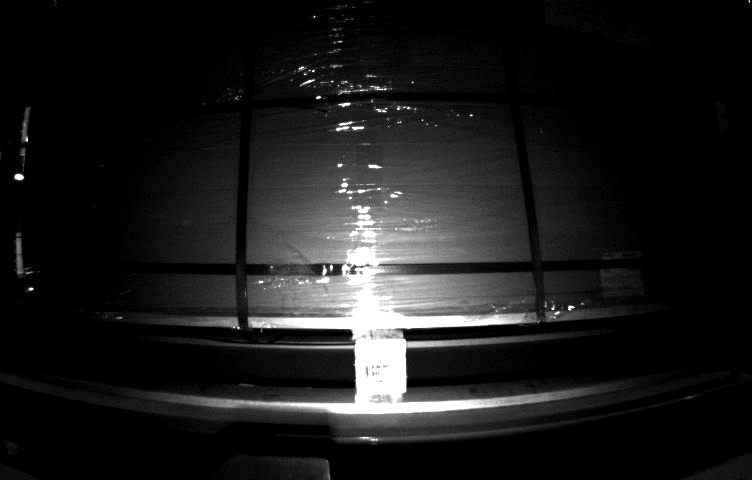True Barcode: (601, 253, 644, 295)
